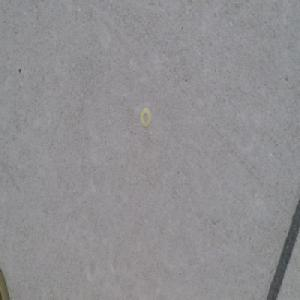Washer: (139, 107, 151, 128)
